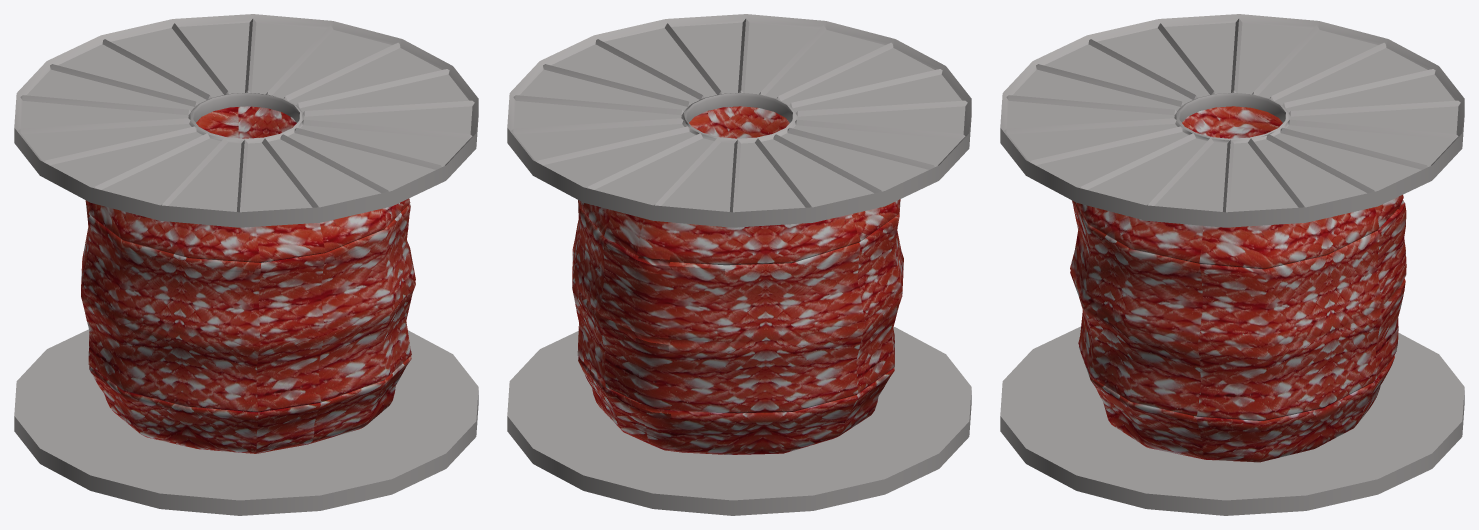
3 views of the same model, side by side, from view 1: azimuth 30°, elevation 25°; view 2: azimuth 150°, elevation 25°; view 3: azimuth 270°, elevation 25° (orthographic).
Parts seen in each view (by area): view 1: Top_2, Rope_0, Top_4; view 2: Top_2, Rope_0, Top_4; view 3: Top_2, Rope_0, Top_4.
Boxes of the visible parts, box(x1,y1,x2,y2) form: Top_2: box(14, 14, 478, 227); Rope_0: box(81, 106, 415, 453); Top_4: box(14, 329, 478, 515); Top_2: box(507, 14, 971, 227); Rope_0: box(572, 106, 903, 454); Top_4: box(507, 327, 971, 515); Top_2: box(1000, 14, 1464, 227); Rope_0: box(1070, 106, 1406, 462); Top_4: box(1000, 326, 1464, 515).
Bounding box in the file's own units: 0.1023 × 0.0731 × 0.1013.
Materials: 1 (1 with a texture image).
